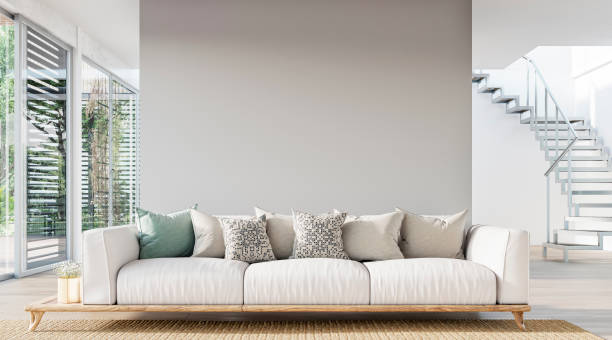flower vase: (50, 259, 82, 304)
sofa: (19, 204, 532, 333)
